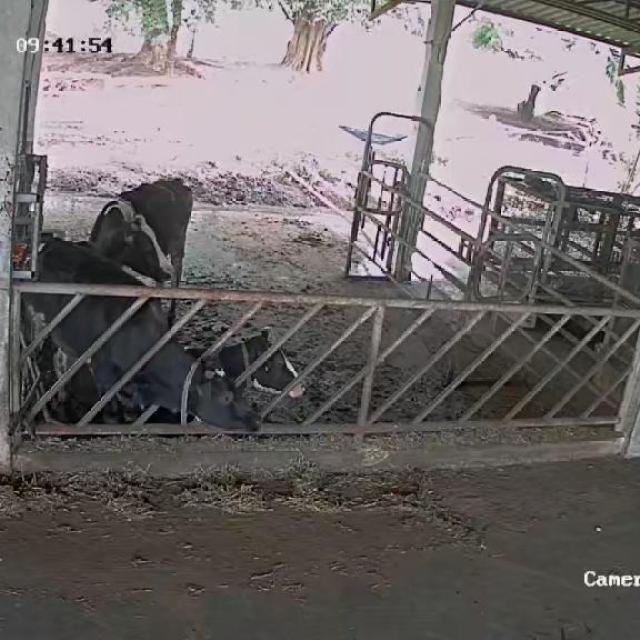feeding: (14, 227, 262, 454)
lying down: (192, 322, 304, 432)
standing: (86, 168, 196, 316)
